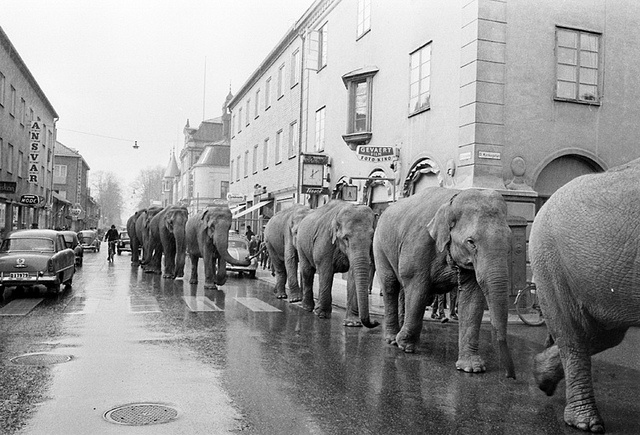non-vehicle: (513, 278, 546, 325), (104, 240, 118, 262)
